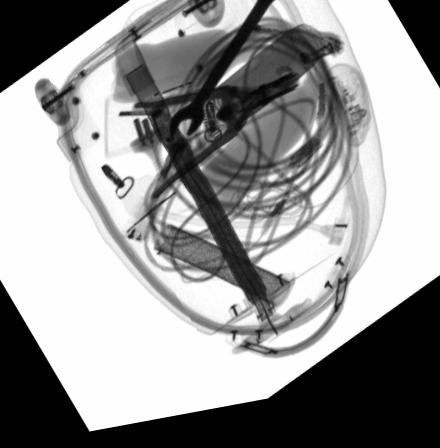Pliers: (133, 81, 301, 208)
Wrench: (168, 0, 289, 144)
